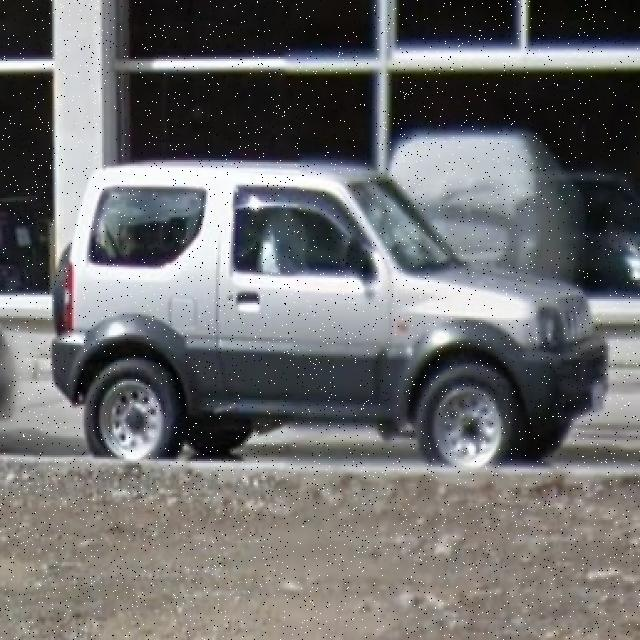cars: (54, 166, 606, 464)
